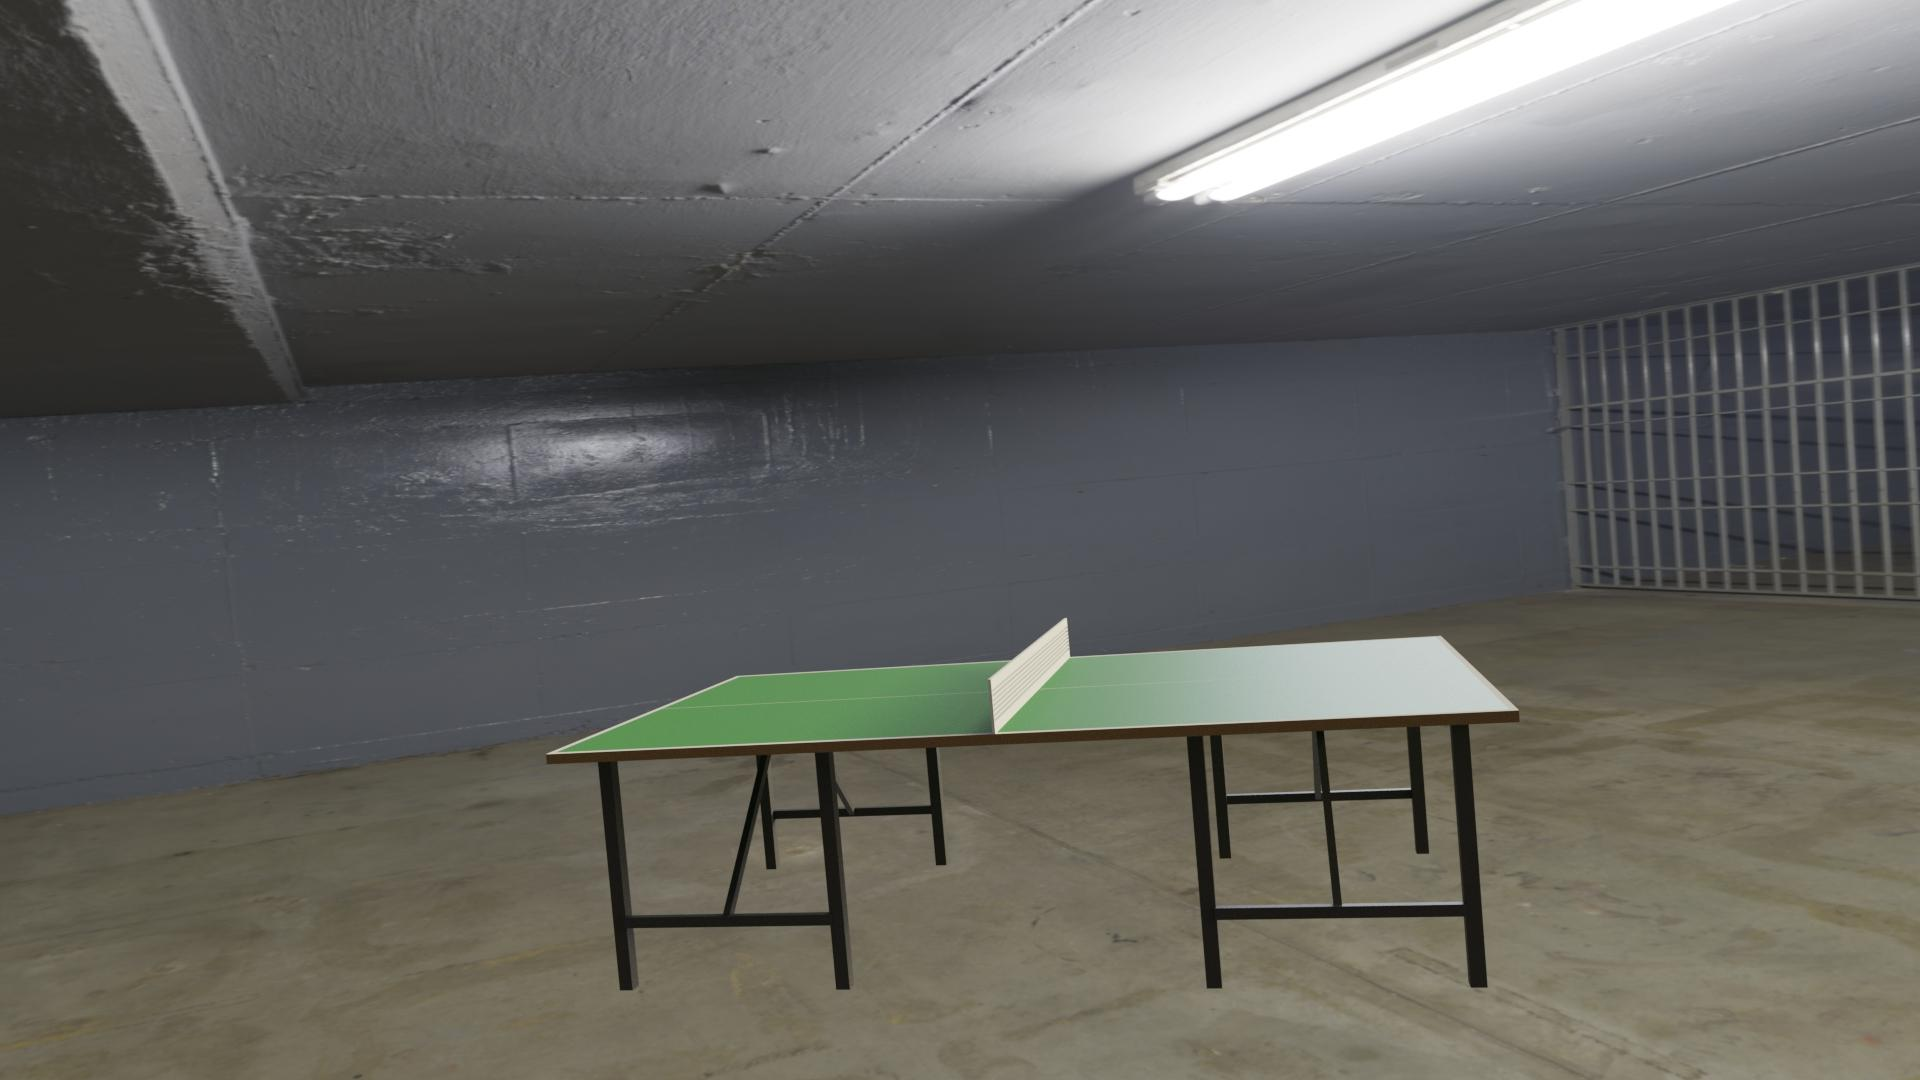table: (555, 637, 1509, 753)
